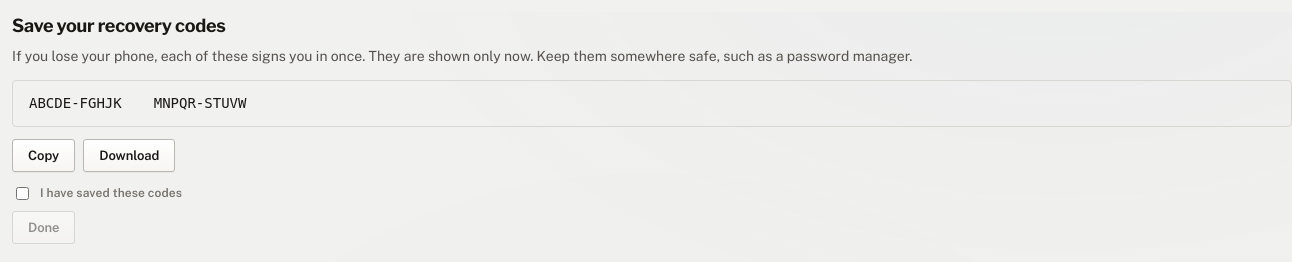
RecoveryCodesView › can be unticked again
This screenshot has width=1292, height=262.
Click the checkbox labelled "I have saved these codes" at x=22, y=194, box [16,187,29,200]
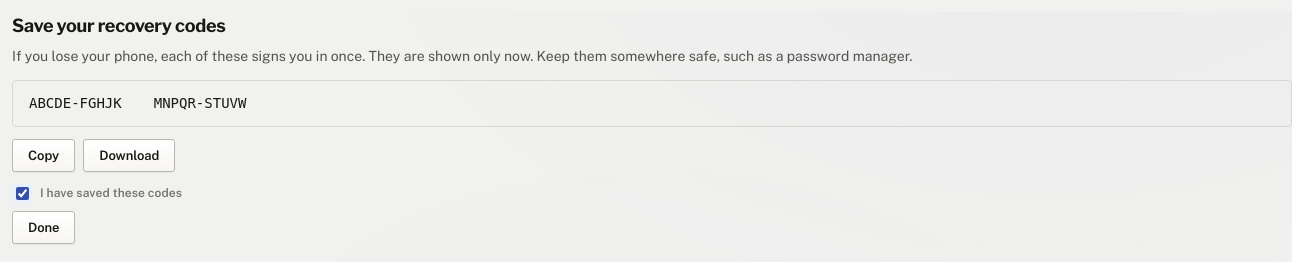
Click the checkbox labelled "I have saved these codes" at x=22, y=194, box [16,187,29,200]
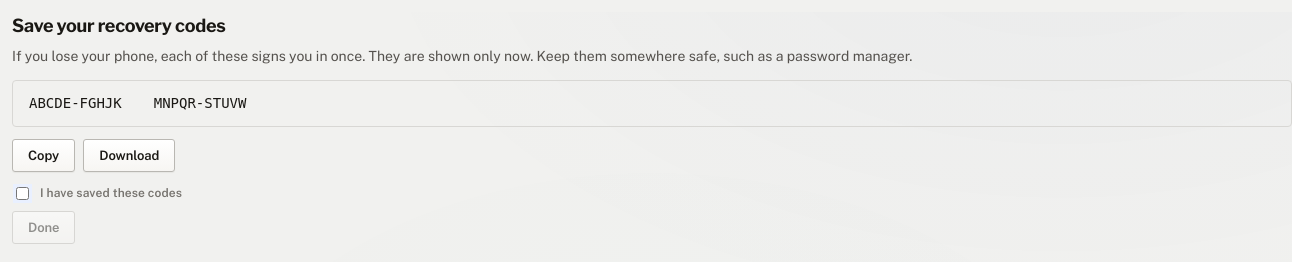
Check: the button "Done" is disabled, box [12,211,76,244]
